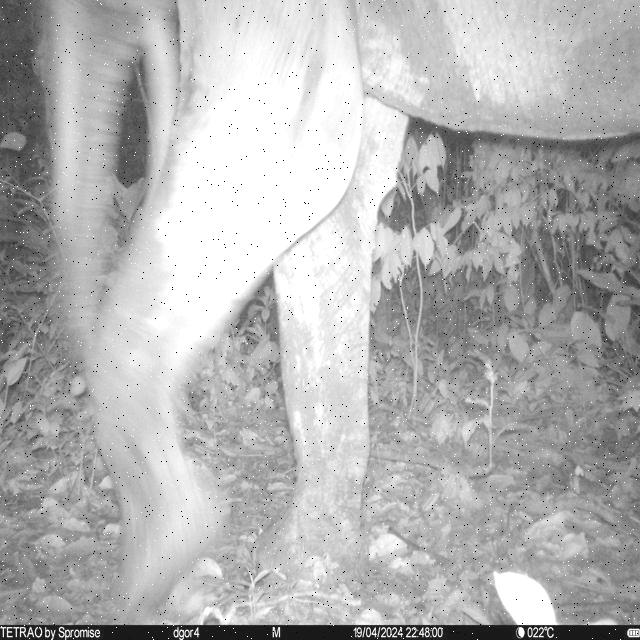elephant: (33, 0, 640, 613)
tusk: (51, 4, 95, 300), (138, 12, 182, 230)
